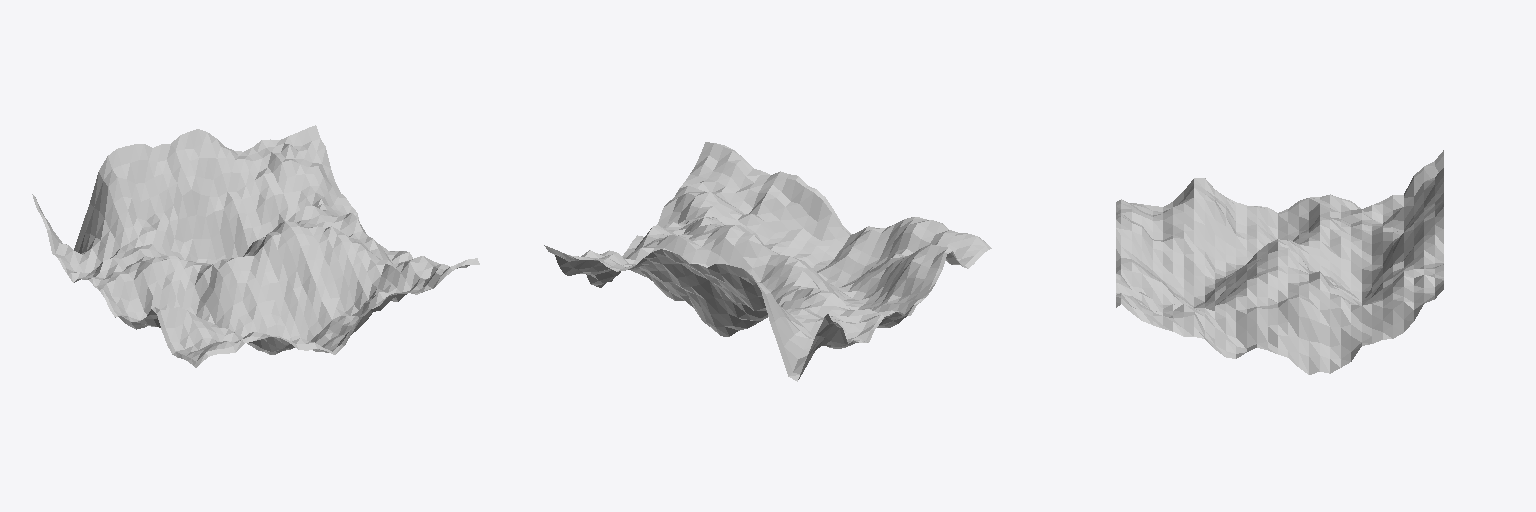
File: terrain_-3_1.obj
3 views of the same model, side by side, from view 1: azimuth 30°, elevation 25°; view 2: azimuth 150°, elevation 25°; view 3: azimuth 270°, elevation 25° (orthographic).
Parts seen in each view (by area): view 1: terrain_-3_1_Plane.023; view 2: terrain_-3_1_Plane.023; view 3: terrain_-3_1_Plane.023.
Part boxes in pixels (bbox=[...]): terrain_-3_1_Plane.023: bbox=[32, 125, 479, 367]; terrain_-3_1_Plane.023: bbox=[544, 142, 991, 381]; terrain_-3_1_Plane.023: bbox=[1116, 150, 1443, 374].
Size of the model in its own units: 32 by 13.2 by 32.